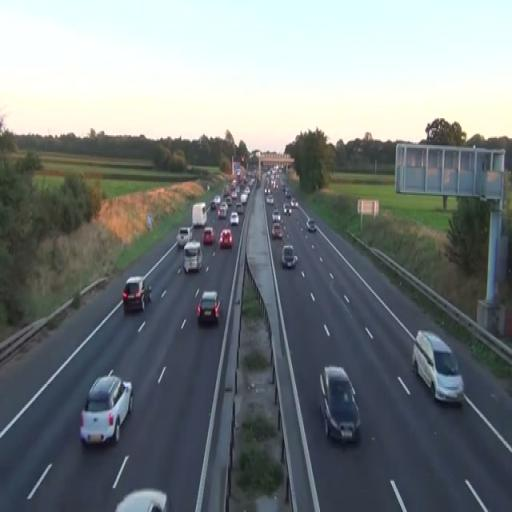Car: (80, 372, 134, 447), (411, 330, 465, 405), (319, 365, 361, 444), (116, 488, 170, 512), (122, 276, 152, 313), (196, 291, 221, 326), (218, 228, 234, 250), (282, 244, 296, 268), (202, 226, 216, 245), (272, 222, 282, 240), (230, 212, 238, 226)
Truck: (184, 240, 202, 273), (192, 203, 206, 227)
